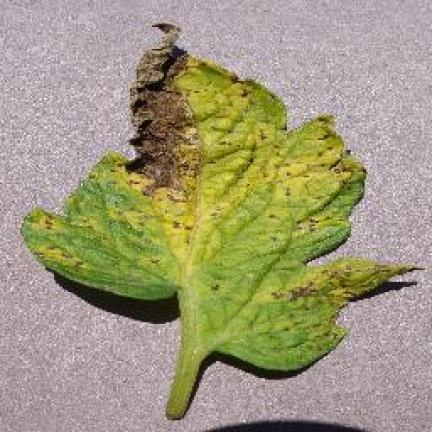disease: (22, 24, 412, 417)
leaf: (87, 25, 210, 239), (260, 263, 411, 350), (311, 116, 364, 191)
